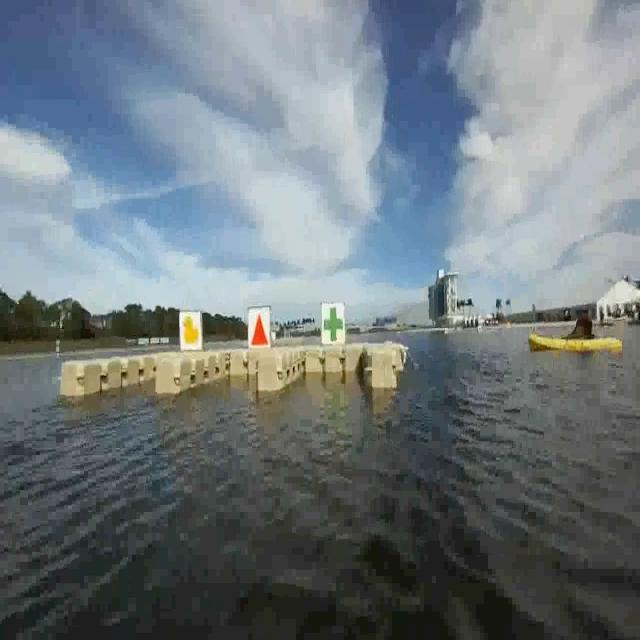blue-cross: (321, 304, 345, 343)
red-dot: (247, 307, 270, 349)
yellow-duck: (179, 310, 201, 351)
